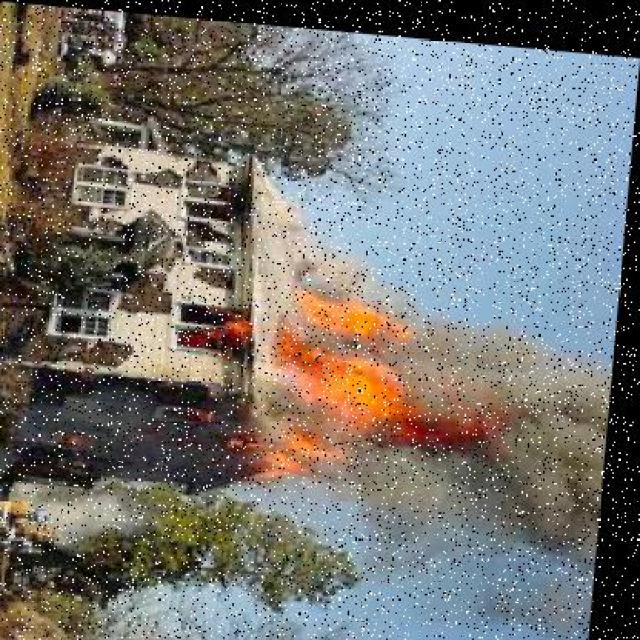fire: (260, 277, 442, 499)
